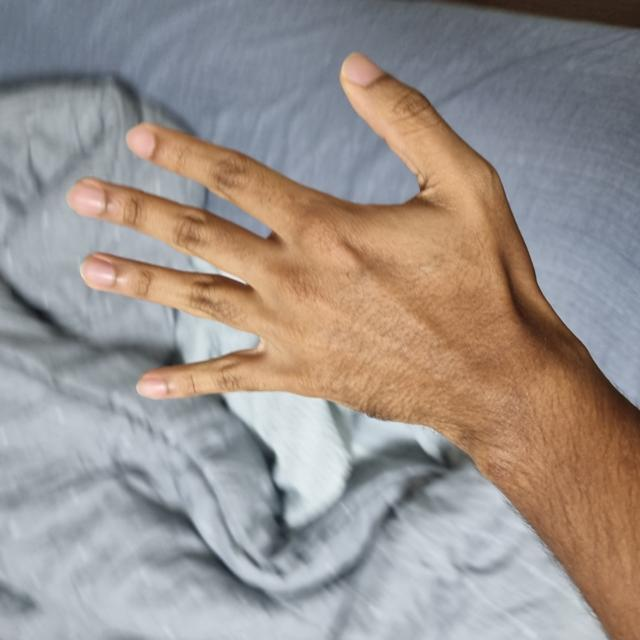Paper: (206, 73, 583, 550)
